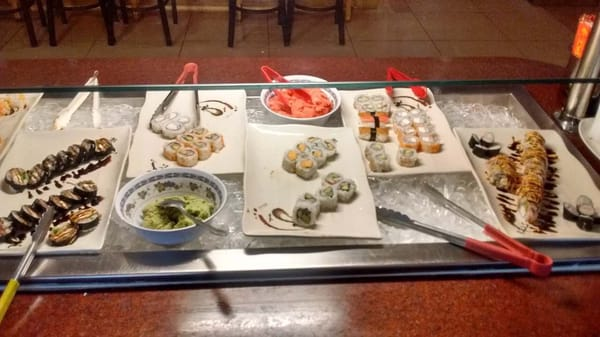sushi: (113, 167, 228, 247), (262, 88, 342, 123)
